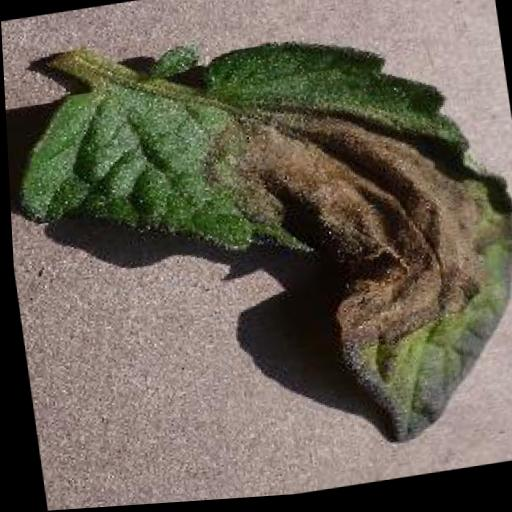Late Blight: (3, 0, 512, 496)
